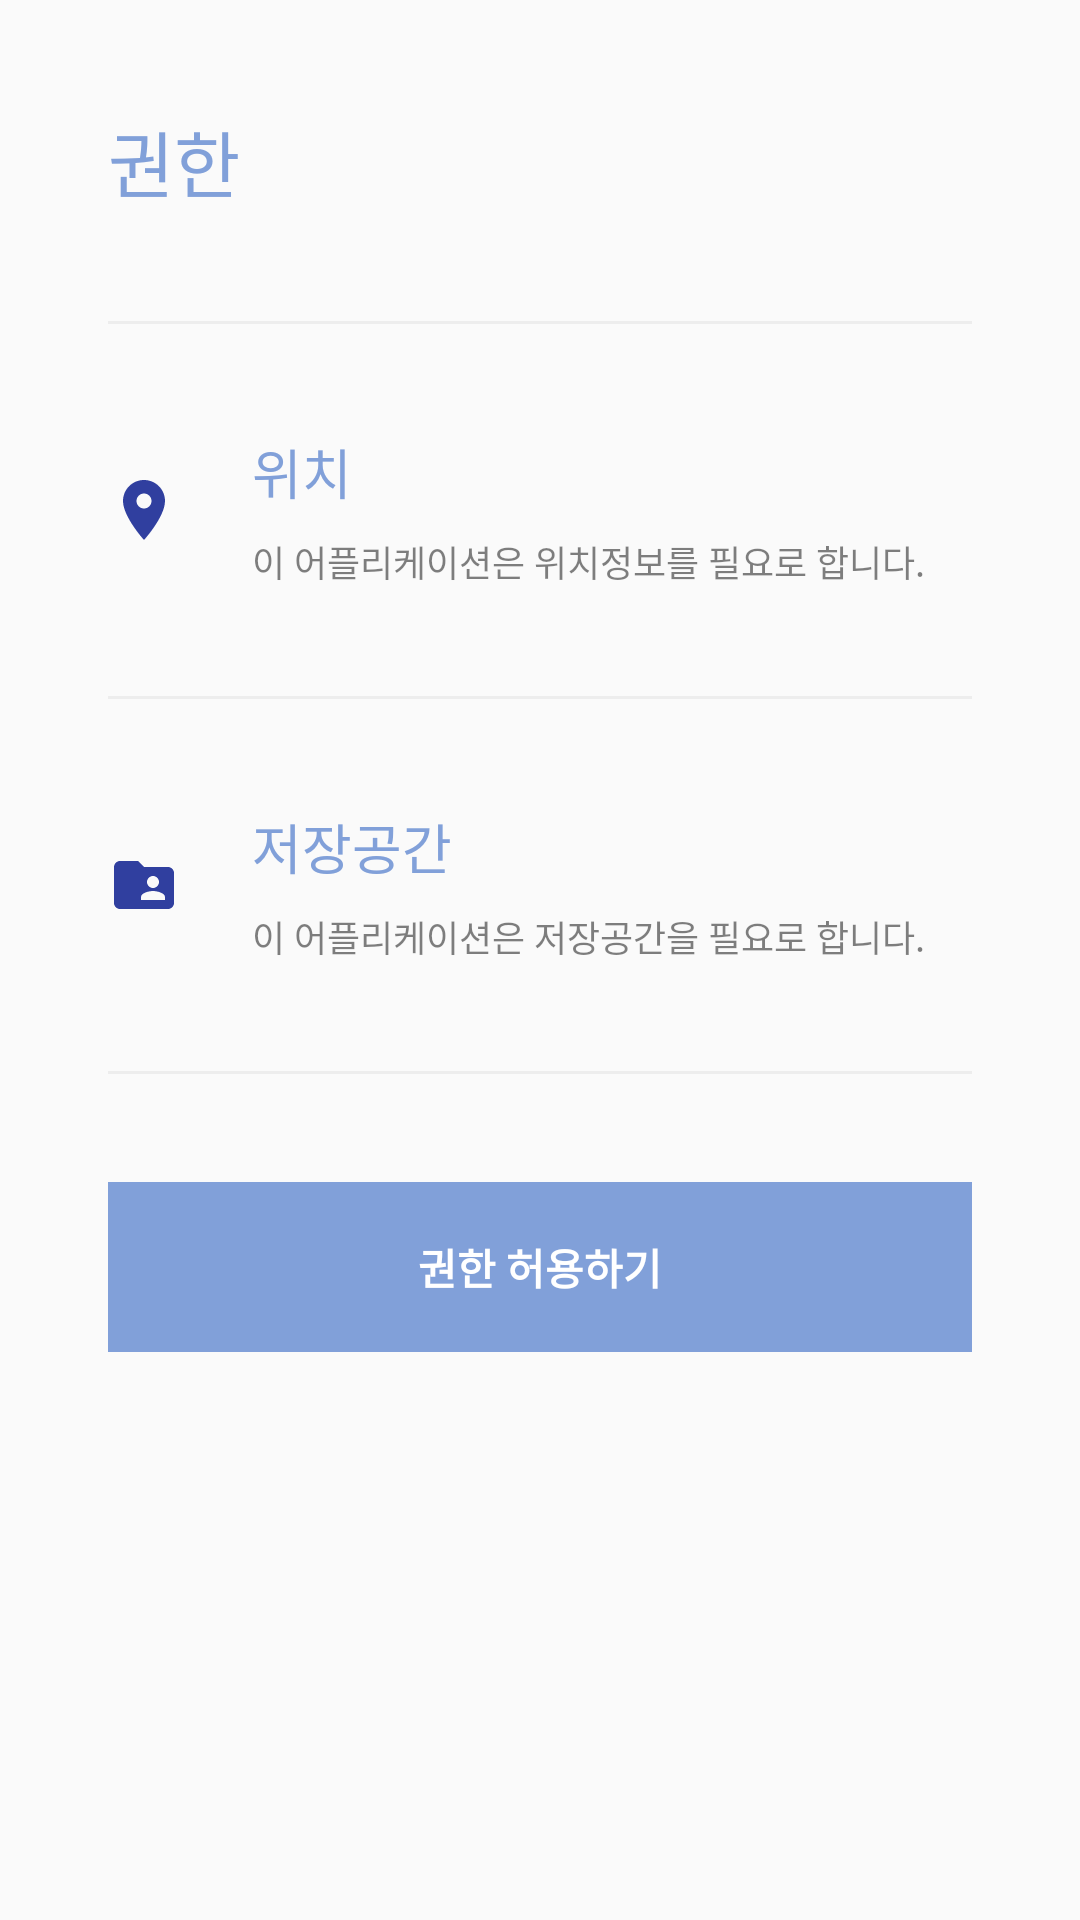

Named icons in this screenshot (1080x1920) and their centers, [x,y]:
folder shared permission: [144,885]
location on permission: [144,510]
